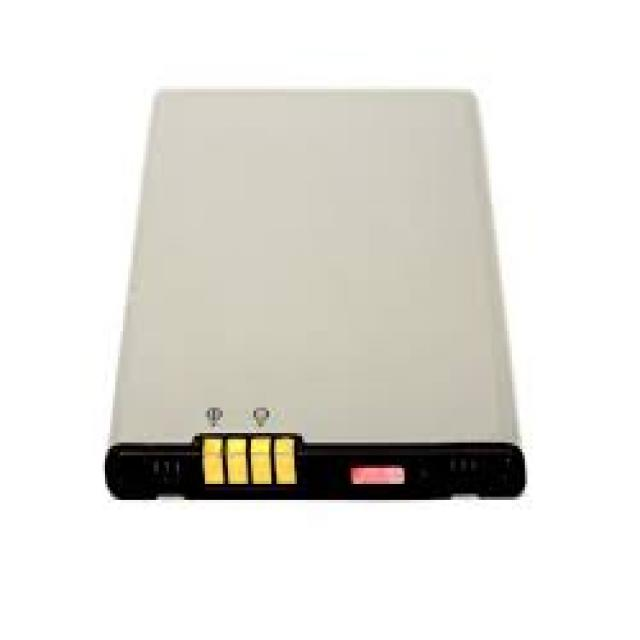non-organic waste: (107, 89, 527, 506)
